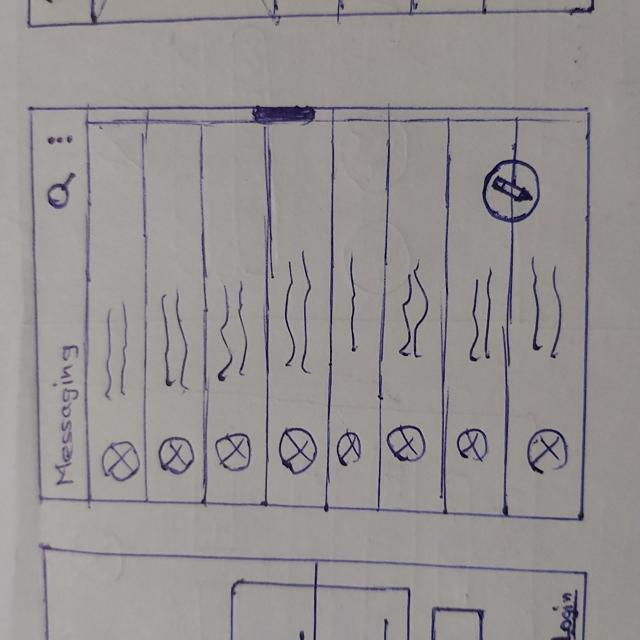ActionButton: (40, 169, 83, 216), (44, 130, 76, 152)
AppBar: (29, 104, 91, 504)
Fab: (484, 159, 544, 224)
Icon: (42, 172, 79, 213), (46, 134, 73, 146)
ListView: (87, 125, 582, 503)
MainLayout: (23, 97, 592, 523)
RoundedImage: (276, 426, 316, 475), (527, 428, 569, 474), (100, 440, 140, 483), (387, 424, 427, 465), (213, 431, 251, 472), (157, 436, 194, 475), (457, 426, 487, 462), (336, 430, 363, 467)
ScrollBar: (87, 104, 590, 125)
TextView: (523, 252, 568, 364), (282, 248, 316, 381), (53, 343, 81, 487), (155, 283, 191, 389), (463, 262, 497, 372), (216, 280, 251, 383), (397, 255, 429, 366), (342, 253, 368, 369), (104, 298, 131, 400)
VerticalListView: (88, 128, 580, 502)
